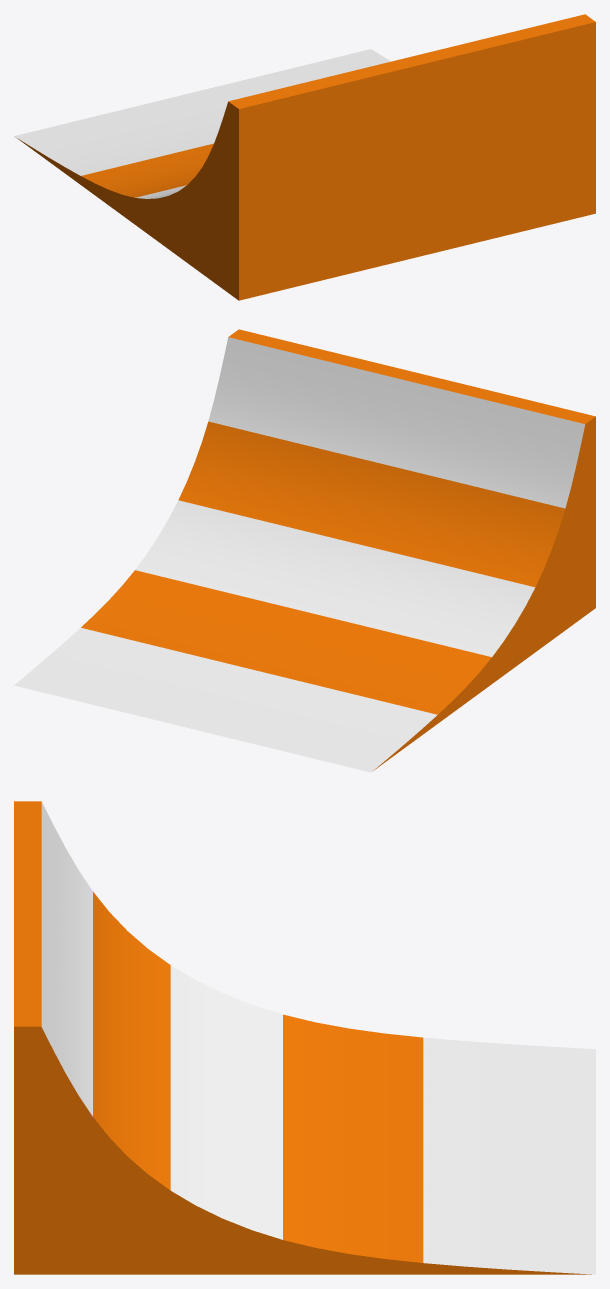
File: RampA.fbx
3 views of the same model, one above another, from view 1: azimuth 30°, elevation 25°; view 2: azimuth 150°, elevation 25°; view 3: azimuth 270°, elevation 25° (orthographic). The views are drawn at different scales.
Visible parts, largest first — view 1: RampA; view 2: RampA; view 3: RampA.
Boxes of the visible parts, x1,y1,x2,y2 form: RampA: [14, 14, 595, 300]; RampA: [14, 329, 595, 772]; RampA: [14, 801, 595, 1274].
Size of the model in its own units: 242 by 124 by 264.
Materials: 1 (1 with a texture image).
